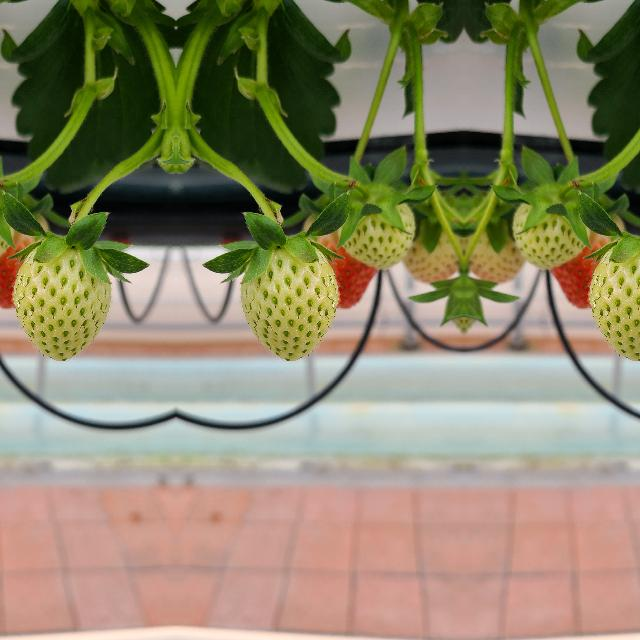Health_25: (239, 246, 337, 360), (13, 246, 111, 360), (335, 192, 415, 270), (511, 192, 591, 270), (589, 245, 640, 360)
